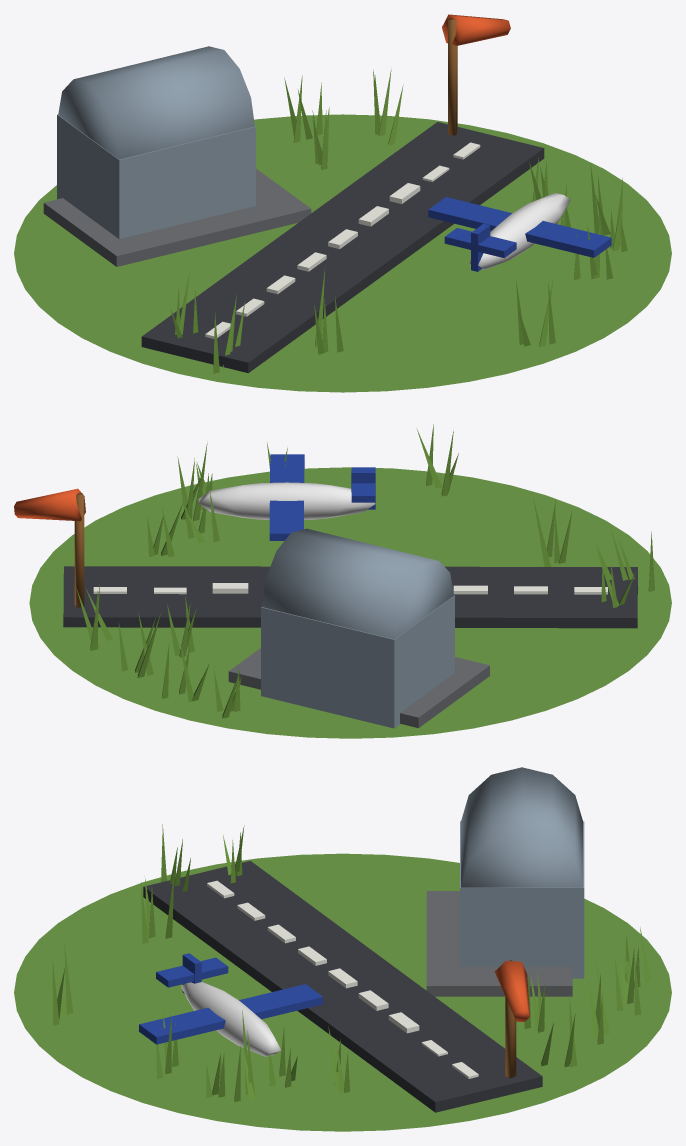
Rendered from improvement_airstrip.fbx.
The picture shows the model from 3 angles, top to bottom: view 1: azimuth 30°, elevation 25°; view 2: azimuth 150°, elevation 25°; view 3: azimuth 270°, elevation 25°; orthographic projection. The views are drawn at different scales.
Visible parts, largest first — view 1: improvement_airstrip_gpatch#6a9a44r_00, improvement_airstrip_asph_02, improvement_airstrip_hangar_05, improvement_airstrip_apron_04, improvement_airstrip_leaf#6a9a3a.006_01, improvement_airstrip_planer_07, improvement_airstrip_rwline_03, improvement_airstrip_planew_06, improvement_airstrip_sock_09, improvement_airstrip_wood#8a5a2c.007_08; view 2: improvement_airstrip_gpatch#6a9a44r_00, improvement_airstrip_hangar_05, improvement_airstrip_asph_02, improvement_airstrip_leaf#6a9a3a.006_01, improvement_airstrip_planew_06, improvement_airstrip_apron_04, improvement_airstrip_planer_07, improvement_airstrip_rwline_03, improvement_airstrip_sock_09, improvement_airstrip_wood#8a5a2c.007_08; view 3: improvement_airstrip_gpatch#6a9a44r_00, improvement_airstrip_asph_02, improvement_airstrip_hangar_05, improvement_airstrip_leaf#6a9a3a.006_01, improvement_airstrip_apron_04, improvement_airstrip_planer_07, improvement_airstrip_planew_06, improvement_airstrip_rwline_03, improvement_airstrip_sock_09, improvement_airstrip_wood#8a5a2c.007_08.
Part boxes in pixels (bbox=[...]): improvement_airstrip_gpatch#6a9a44r_00: bbox=[14, 114, 671, 392]; improvement_airstrip_asph_02: bbox=[141, 122, 544, 373]; improvement_airstrip_hangar_05: bbox=[57, 46, 255, 239]; improvement_airstrip_apron_04: bbox=[43, 168, 311, 266]; improvement_airstrip_leaf#6a9a3a.006_01: bbox=[171, 67, 627, 373]; improvement_airstrip_planer_07: bbox=[428, 197, 611, 271]; improvement_airstrip_rwline_03: bbox=[205, 142, 480, 338]; improvement_airstrip_planew_06: bbox=[469, 193, 570, 269]; improvement_airstrip_sock_09: bbox=[442, 14, 510, 45]; improvement_airstrip_wood#8a5a2c.007_08: bbox=[448, 18, 457, 135]; improvement_airstrip_gpatch#6a9a44r_00: bbox=[29, 467, 671, 738]; improvement_airstrip_hangar_05: bbox=[261, 528, 454, 728]; improvement_airstrip_asph_02: bbox=[63, 566, 637, 628]; improvement_airstrip_leaf#6a9a3a.006_01: bbox=[76, 424, 654, 718]; improvement_airstrip_planew_06: bbox=[198, 482, 375, 519]; improvement_airstrip_apron_04: bbox=[228, 648, 489, 727]; improvement_airstrip_planer_07: bbox=[269, 454, 375, 540]; improvement_airstrip_rwline_03: bbox=[93, 583, 607, 594]; improvement_airstrip_sock_09: bbox=[14, 488, 85, 521]; improvement_airstrip_wood#8a5a2c.007_08: bbox=[74, 493, 84, 607]; improvement_airstrip_gpatch#6a9a44r_00: bbox=[14, 853, 671, 1131]; improvement_airstrip_asph_02: bbox=[143, 860, 542, 1112]; improvement_airstrip_hangar_05: bbox=[460, 767, 584, 978]; improvement_airstrip_leaf#6a9a3a.006_01: bbox=[52, 824, 651, 1102]; improvement_airstrip_apron_04: bbox=[426, 891, 572, 996]; improvement_airstrip_planer_07: bbox=[139, 953, 322, 1044]; improvement_airstrip_planew_06: bbox=[181, 982, 280, 1056]; improvement_airstrip_rwline_03: bbox=[207, 880, 478, 1078]; improvement_airstrip_sock_09: bbox=[494, 961, 529, 1021]; improvement_airstrip_wood#8a5a2c.007_08: bbox=[505, 960, 516, 1078].
Size of the model in its own units: 118 by 29.31 by 118.
